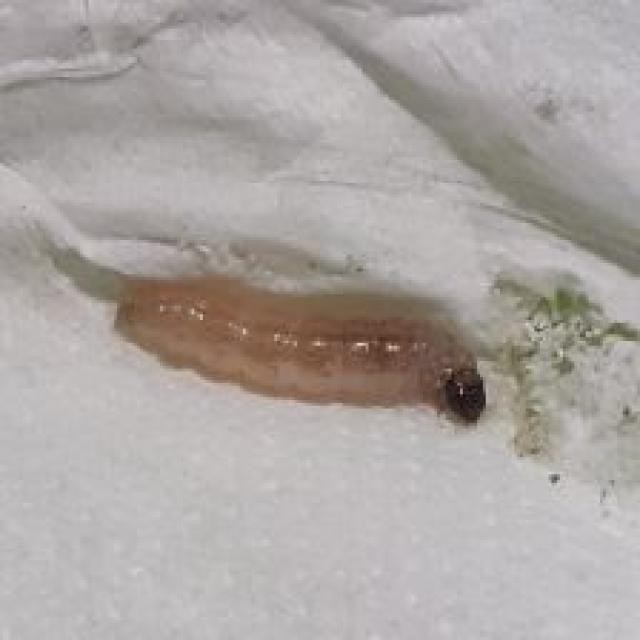white mucus: (113, 257, 494, 449)
